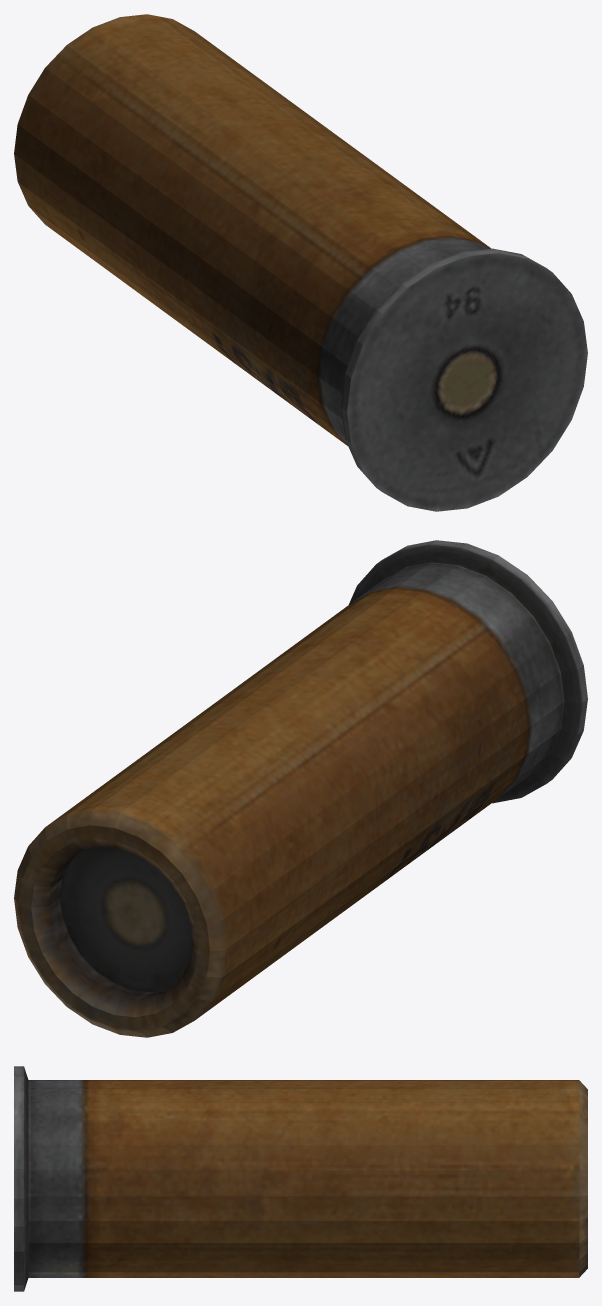
3 renders of one model, top to bottom at view 1: azimuth 30°, elevation 25°; view 2: azimuth 150°, elevation 25°; view 3: azimuth 270°, elevation 25°, orthographic. The views are drawn at different scales.
Parts seen in each view (by area): view 1: TW_5e85aa1a988a8701445df1f5_PZ_Import; view 2: TW_5e85aa1a988a8701445df1f5_PZ_Import; view 3: TW_5e85aa1a988a8701445df1f5_PZ_Import.
Boxes of the visible parts, <box> form: TW_5e85aa1a988a8701445df1f5_PZ_Import: <box>14,14,587,511</box>; TW_5e85aa1a988a8701445df1f5_PZ_Import: <box>14,540,587,1037</box>; TW_5e85aa1a988a8701445df1f5_PZ_Import: <box>14,1066,587,1291</box>.
Size of the model in its own units: 0.0171 by 0.0434 by 0.0171.
1 material, 1 textured.
